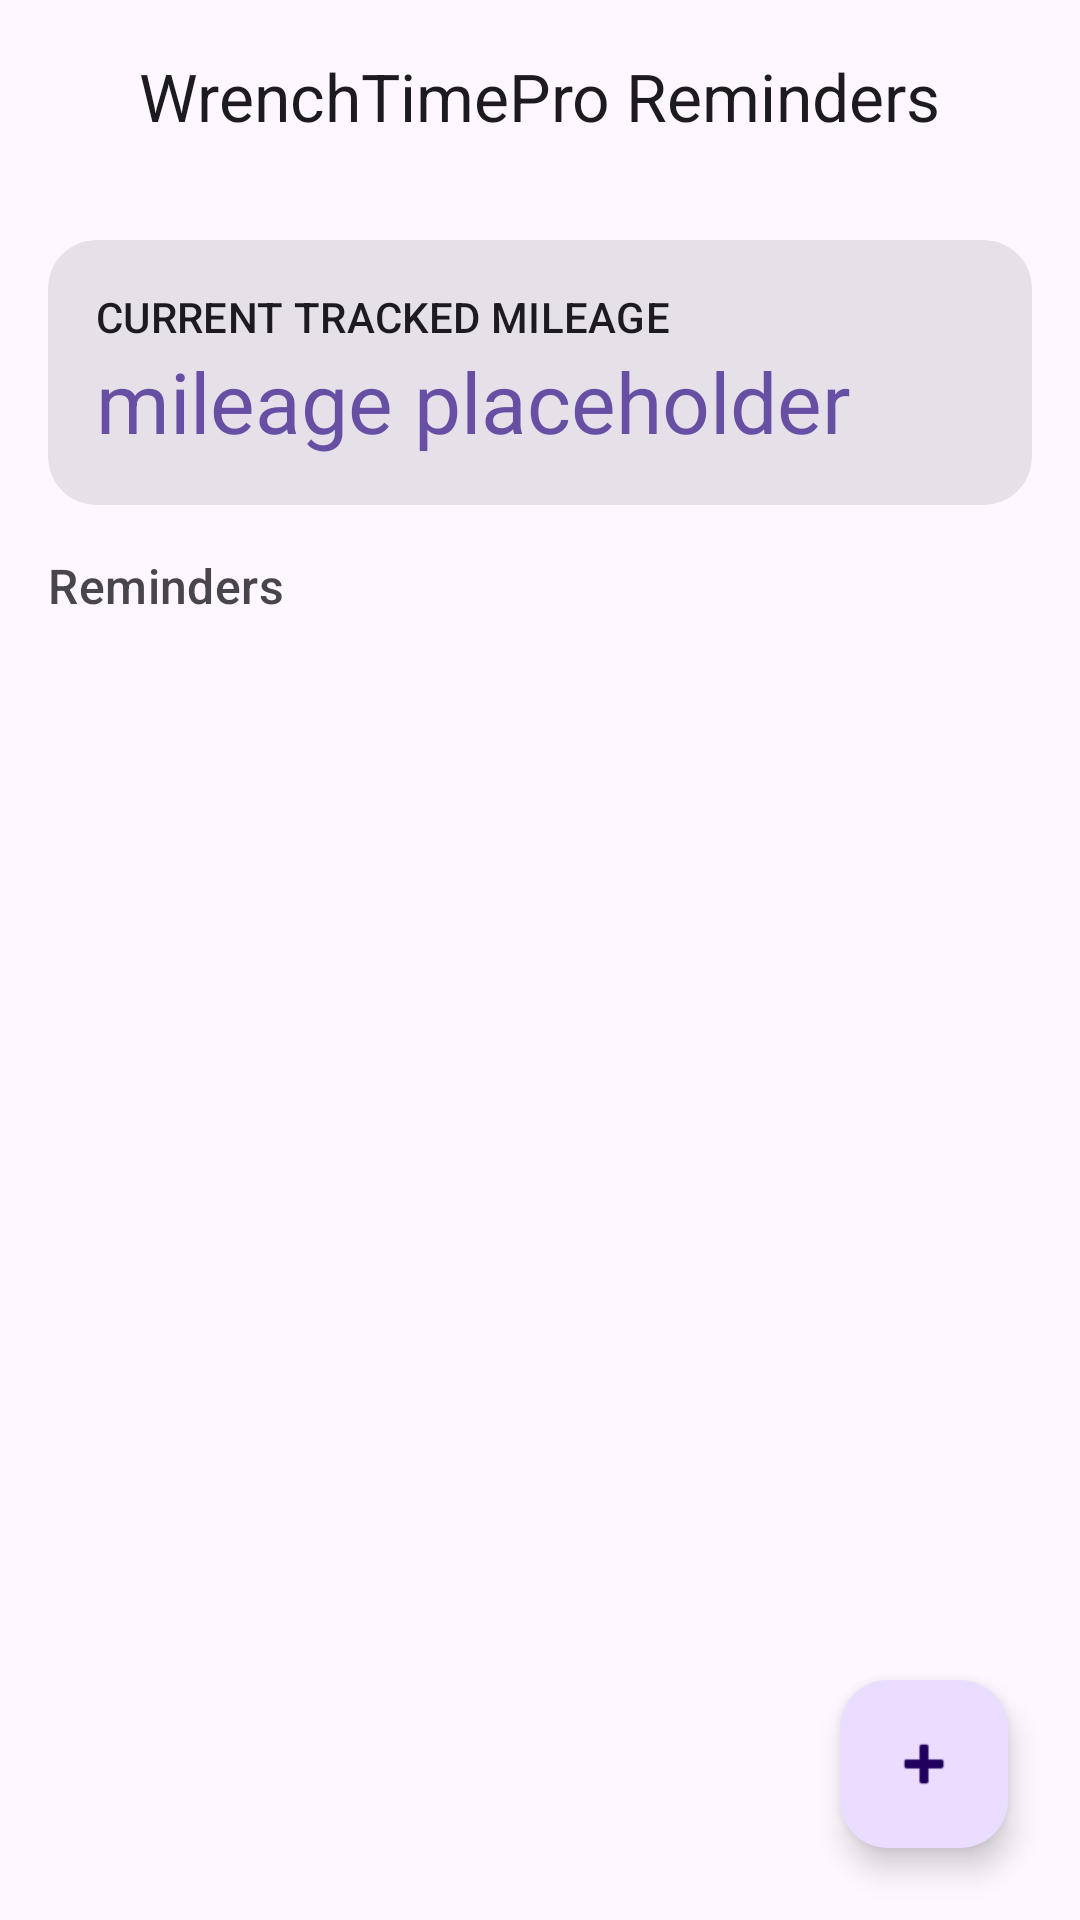

Screen size 1080w x 1920h. Icon name, then its box in pixels as (x1, y1, x2, y2):
Add reminder: (840, 1680, 1008, 1848)
